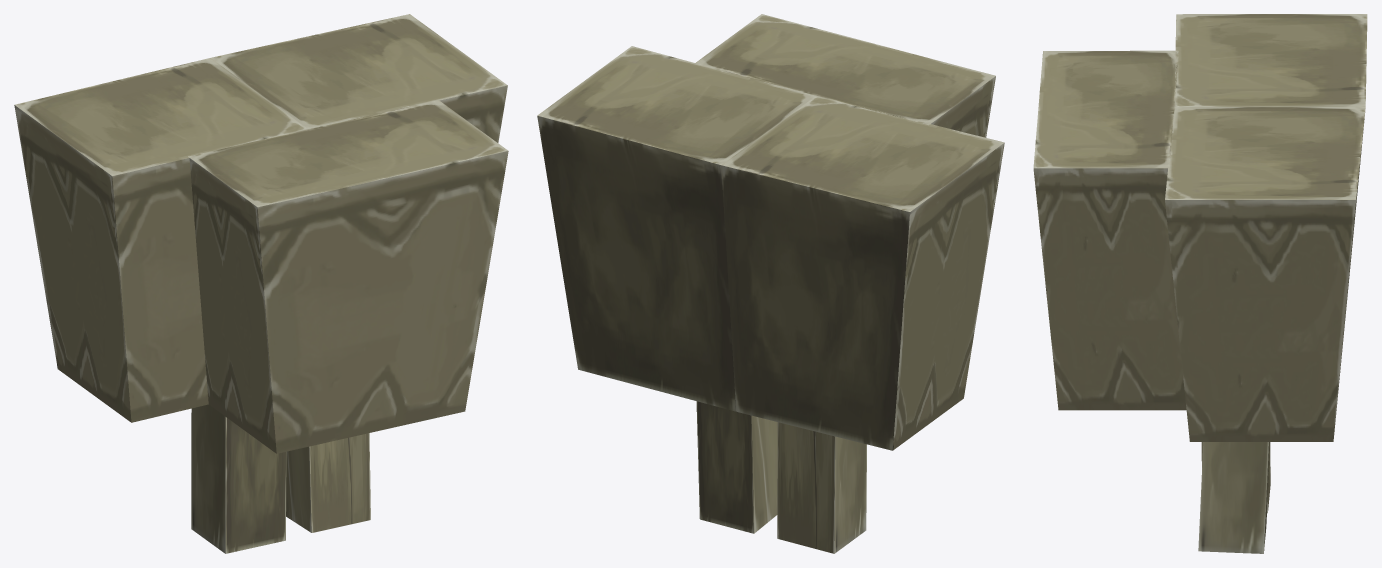
The model's file is pillar_top.fbx.
The picture shows the model from 3 angles, left to right: view 1: azimuth 30°, elevation 25°; view 2: azimuth 150°, elevation 25°; view 3: azimuth 270°, elevation 25°; orthographic projection. The views are drawn at different scales.
Visible parts, largest first — view 1: polySurface104; view 2: polySurface104; view 3: polySurface104.
Boxes of the visible parts, x1,y1,x2,y2 form: polySurface104: (14,14,508,553); polySurface104: (537,14,1004,553); polySurface104: (1033,14,1367,553).
Size of the model in its own units: 0.5775 by 0.5954 by 0.438.
